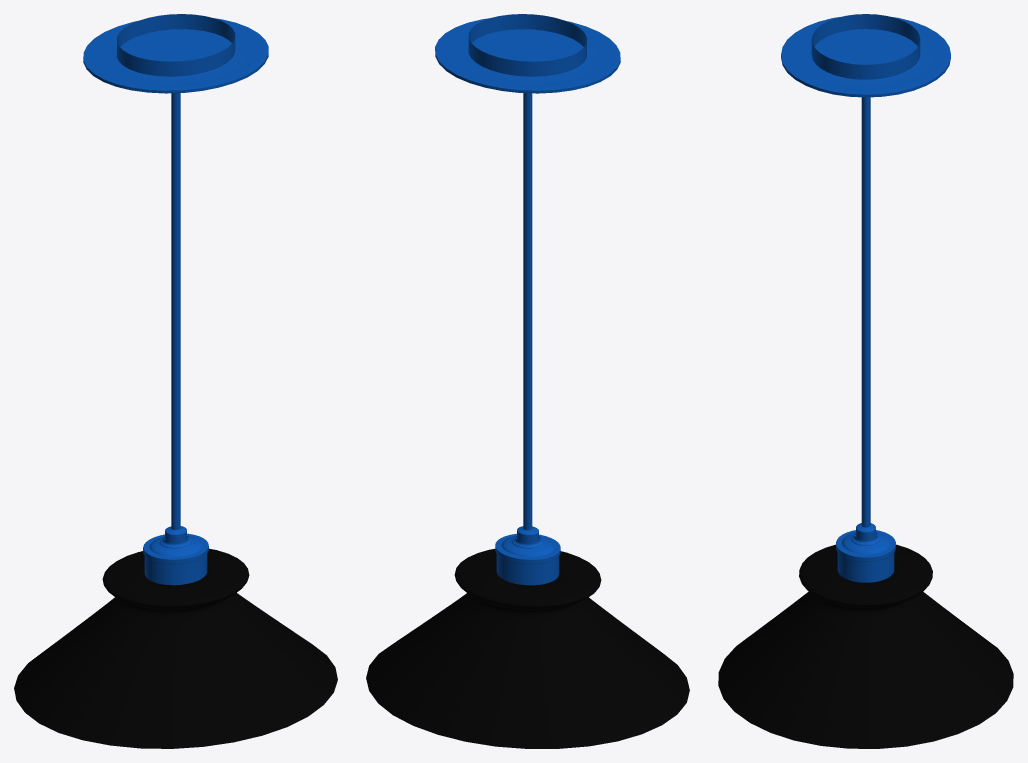
The model's file is lampara.obj.
3 renders of one model, left to right at view 1: azimuth 30°, elevation 25°; view 2: azimuth 150°, elevation 25°; view 3: azimuth 270°, elevation 25°, orthographic.
Parts seen in each view (by area): view 1: Campanella_SP1:Mesh; view 2: Campanella_SP1:Mesh; view 3: Campanella_SP1:Mesh.
Boxes of the visible parts, left/top/right/bottom form: Campanella_SP1:Mesh: left=14, top=14, right=337, bottom=748; Campanella_SP1:Mesh: left=366, top=14, right=689, bottom=748; Campanella_SP1:Mesh: left=718, top=14, right=1013, bottom=748.
Bounding box in the file's own units: 1.14 × 2.46 × 1.03.
